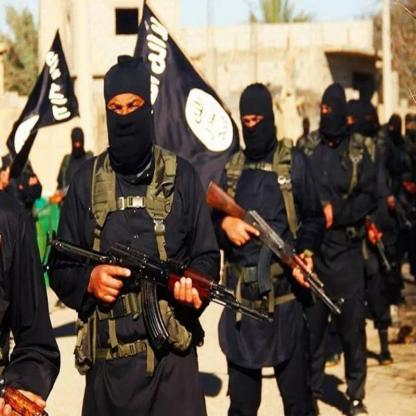rifle: (36, 226, 277, 352), (204, 178, 347, 325), (360, 209, 392, 277)
